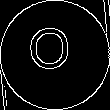O_S: (33, 29, 77, 81)
